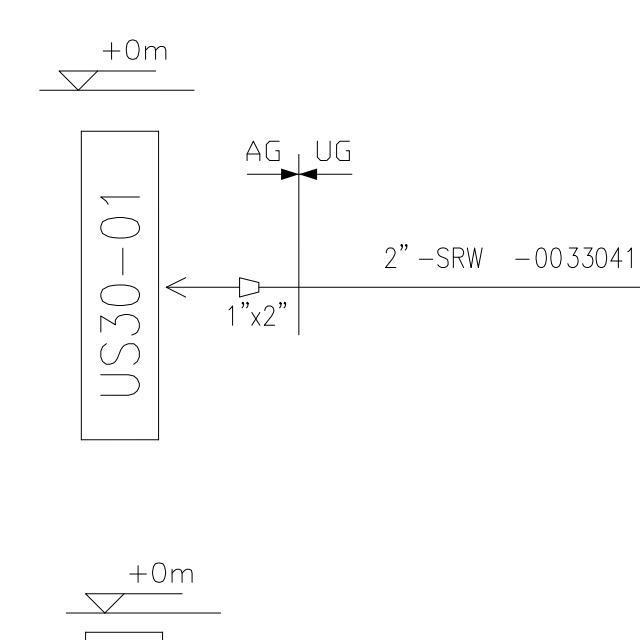SP: (233, 274, 260, 300)
